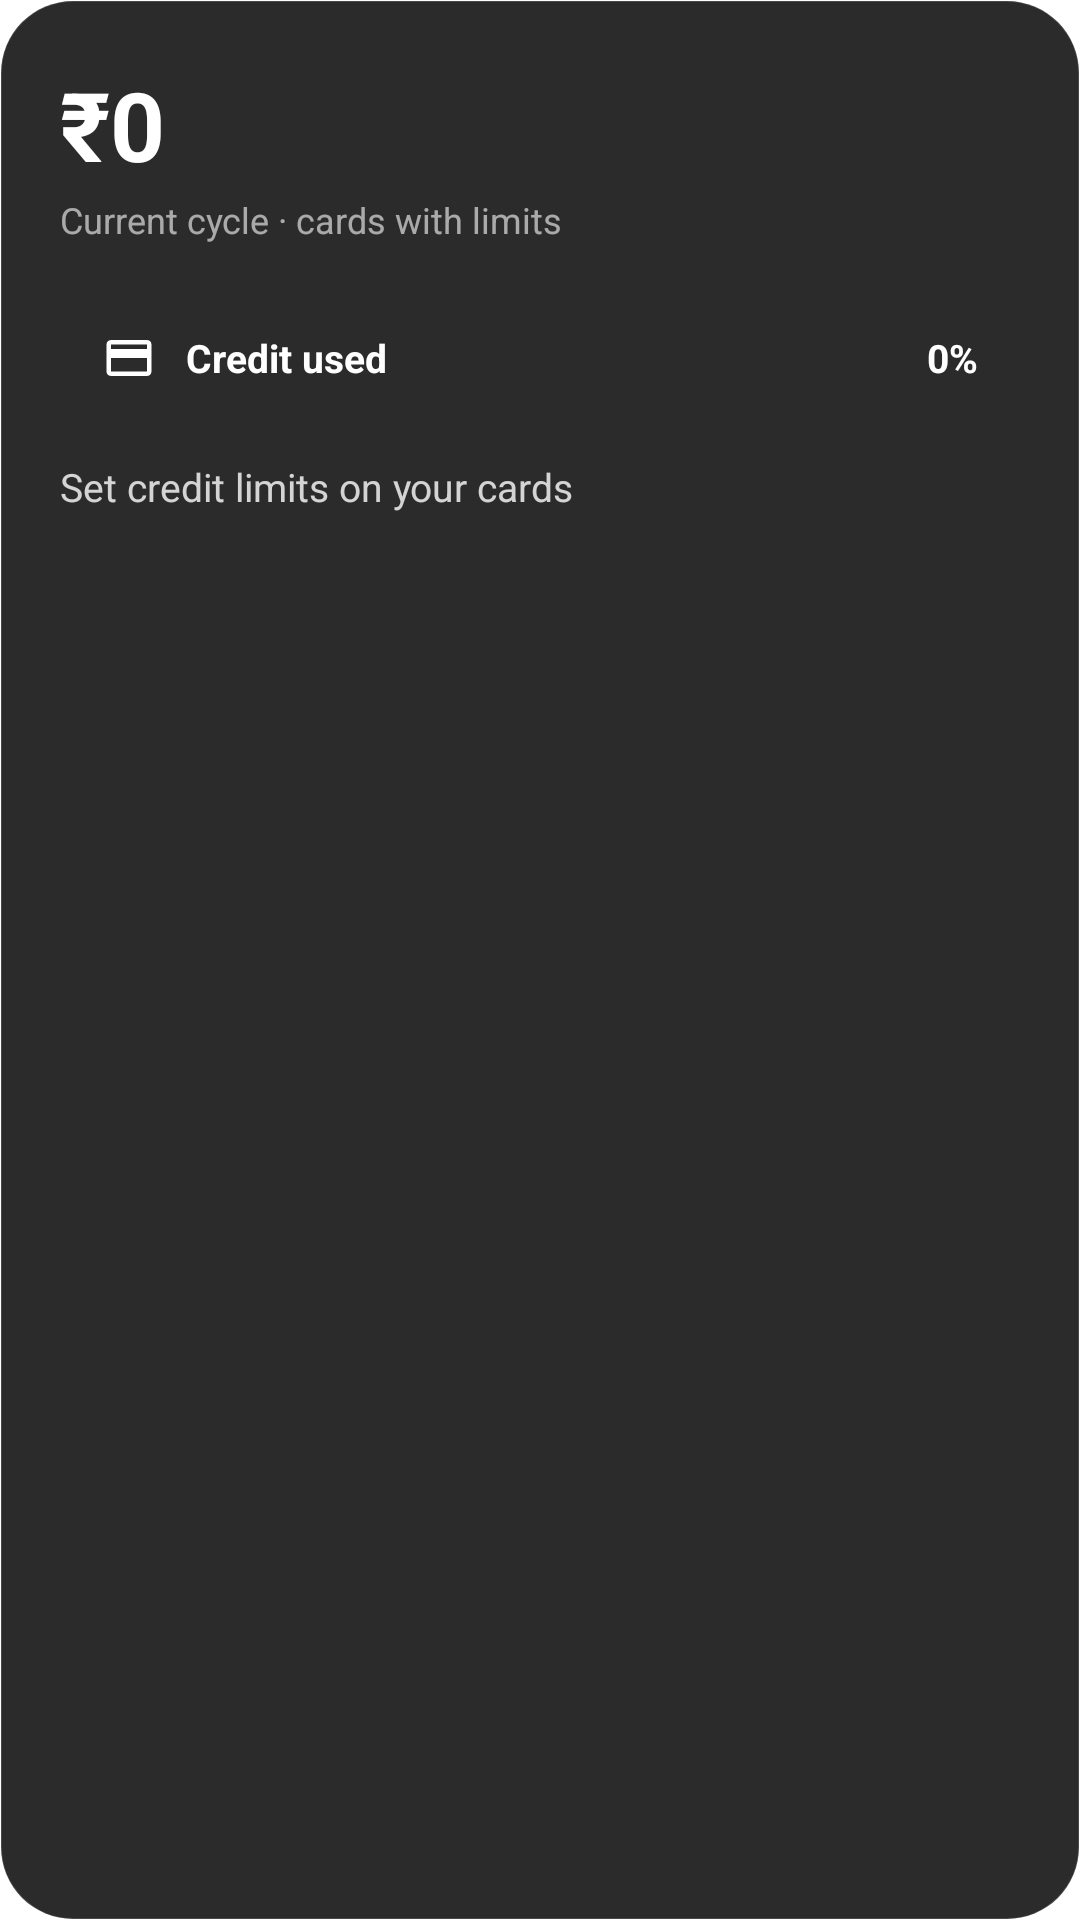

Named icons in this screenshot (1080x1920) and their bounding boxes, box(x1, y1, x2, y2):
widget credit card: box(106, 340, 152, 376)
